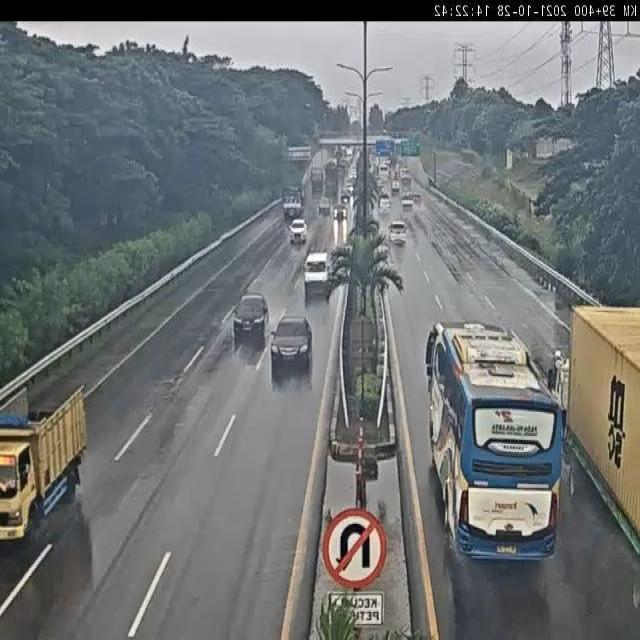Bus: (428, 318, 565, 553), (379, 162, 389, 178)
Car: (269, 314, 313, 384), (233, 292, 269, 348), (388, 220, 408, 245), (289, 218, 308, 244), (334, 200, 347, 220), (348, 167, 357, 186), (345, 180, 354, 197), (376, 180, 385, 196), (341, 191, 350, 207), (392, 180, 400, 193)
Truck: (0, 387, 87, 548), (282, 186, 303, 218), (318, 196, 331, 215), (379, 191, 390, 209), (402, 197, 414, 210)
Van: (303, 251, 329, 297)
